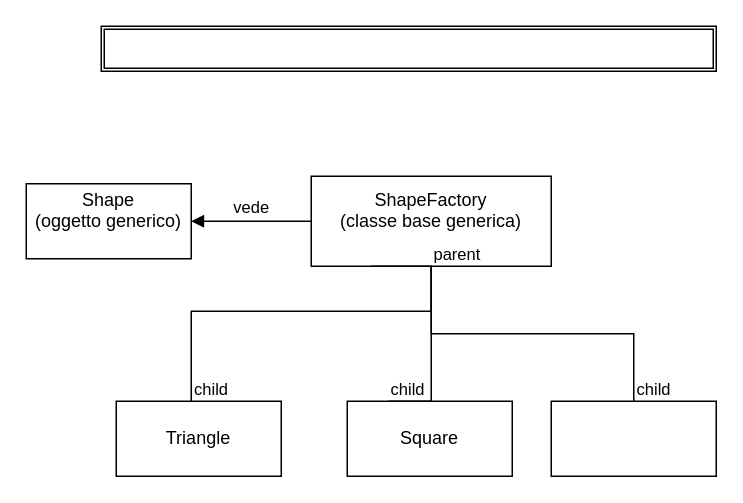
Image size: 743x503. Some labels were removed from this diagram. The shapes that lost their labels are listed below. From the top down, each one's centre as x and y in pixels, then its label:
At point 408,48: "Esempio di Factory: tanti oggetti che ereditano da una stessa classe base".
At point 633,438: "Rectangle".
